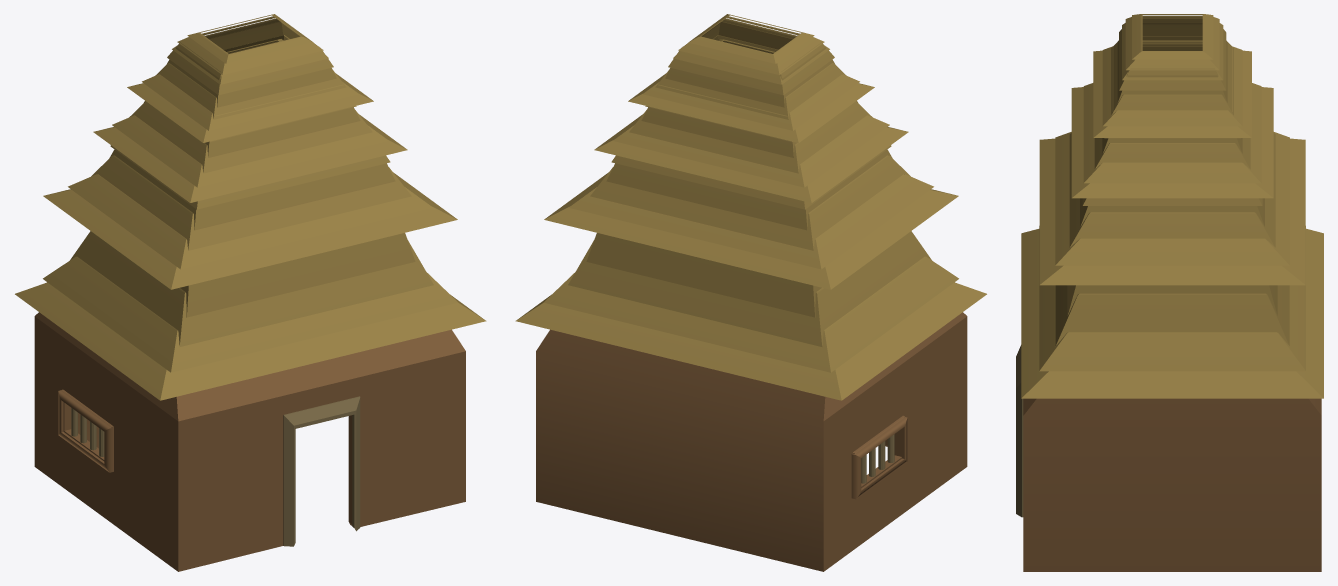
The model's file is Maison_4.fbx.
The picture shows the model from 3 angles, left to right: view 1: azimuth 30°, elevation 25°; view 2: azimuth 150°, elevation 25°; view 3: azimuth 270°, elevation 25°; orthographic projection. The views are drawn at different scales.
Visible parts, largest first — view 1: pCube3, pasted__pCube3, pasted__pasted__pCube4, pasted__pasted__pasted__pCube5, pasted__pasted__pCube3, pasted__pasted__pasted__pCube3, pasted__pasted__pasted__pasted__pCube5, pasted__pasted__pasted__pasted__pasted__pasted__pasted__past (×4), pasted__pasted__pasted__pasted__pCube4, pasted__pasted__pasted__pCube4, pasted__pasted__pasted__pasted__pasted__pCube3, pasted__pasted__pasted__pasted__pCube3 (+8 smaller); view 2: pCube3, pasted__pCube3, pasted__pasted__pCube4, pasted__pasted__pasted__pCube5, pasted__pasted__pCube3, pasted__pasted__pasted__pCube3, pasted__pasted__pasted__pasted__pCube5, pasted__pasted__pasted__pasted__pasted__pasted__pasted__past (×4), pasted__pasted__pasted__pasted__pCube4, pasted__pasted__pasted__pCube4, pasted__pasted__pasted__pasted__pasted__pCube3, pasted__pasted__pasted__pasted__pCube3 (+7 smaller); view 3: pCube3, pasted__pCube3, pasted__pasted__pCube4, pasted__pasted__pCube3, pasted__pasted__pasted__pCube3, pasted__pasted__pasted__pCube5, pasted__pasted__pasted__pasted__pasted__pasted__pasted__past (×4), pasted__pasted__pasted__pasted__pCube4, pasted__pasted__pasted__pCube4, pasted__pasted__pasted__pasted__pCube3, pasted__pasted__pasted__pasted__pasted__pCube6, pasted__pasted__pasted__pasted__pCube6 (+8 smaller).
Part boxes in pixels (x1,y1,x2,y2): pCube3: (34,312,465,571); pasted__pCube3: (15,282,486,400); pasted__pasted__pCube4: (43,256,457,372); pasted__pasted__pasted__pCube5: (70,231,433,346); pasted__pasted__pCube3: (43,172,457,289); pasted__pasted__pasted__pCube3: (68,174,432,269); pasted__pasted__pasted__pasted__pCube5: (180,233,415,317); pasted__pasted__pasted__pasted__pasted__pasted__pasted__past (×4): (167,14,333,95); pasted__pasted__pasted__pasted__pCube4: (91,155,411,250); pasted__pasted__pasted__pCube4: (93,114,407,202); pasted__pasted__pasted__pasted__pasted__pCube3: (109,149,395,230); pasted__pasted__pasted__pasted__pCube3: (112,115,388,187); pCube3: (536,312,967,571); pasted__pCube3: (515,282,986,400); pasted__pasted__pCube4: (544,256,958,372); pasted__pasted__pasted__pCube5: (568,231,931,346); pasted__pasted__pCube3: (544,172,958,289); pasted__pasted__pasted__pCube3: (569,174,933,269); pasted__pasted__pasted__pasted__pCube5: (586,233,821,317); pasted__pasted__pasted__pasted__pasted__pasted__pasted__past (×4): (668,14,834,95); pasted__pasted__pasted__pasted__pCube4: (590,155,910,250); pasted__pasted__pasted__pCube4: (594,114,908,202); pasted__pasted__pasted__pasted__pasted__pCube3: (606,149,892,230); pasted__pasted__pasted__pasted__pCube3: (613,115,889,187); pCube3: (1023,398,1321,571); pasted__pCube3: (1021,228,1323,398); pasted__pasted__pCube4: (1039,226,1305,371); pasted__pasted__pCube3: (1039,138,1305,285); pasted__pasted__pasted__pCube3: (1055,132,1289,265); pasted__pasted__pasted__pCube5: (1055,285,1289,345); pasted__pasted__pasted__pasted__pasted__pasted__pasted__past (×4): (1119,14,1226,90); pasted__pasted__pasted__pasted__pCube4: (1069,133,1275,247); pasted__pasted__pasted__pCube4: (1071,87,1273,198); pasted__pasted__pasted__pasted__pCube3: (1083,83,1261,183); pasted__pasted__pasted__pasted__pasted__pCube6: (1102,46,1242,126); pasted__pasted__pasted__pasted__pCube6: (1093,50,1251,137).
Bounding box in the file's own units: 17.09 × 22.49 × 13.46.
